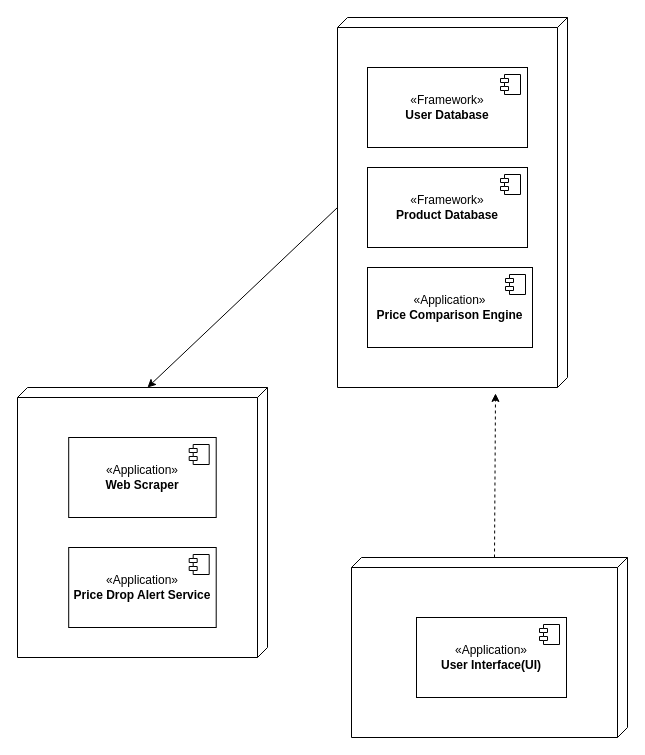
The diagram is 645 pixels wide and 755 high, and some of its shapes have lost their labels. Each missing label, with the box of its shape:
Database Server: (336, 16, 568, 388)
User Device: (350, 556, 628, 738)
Web Server: (16, 386, 268, 658)
